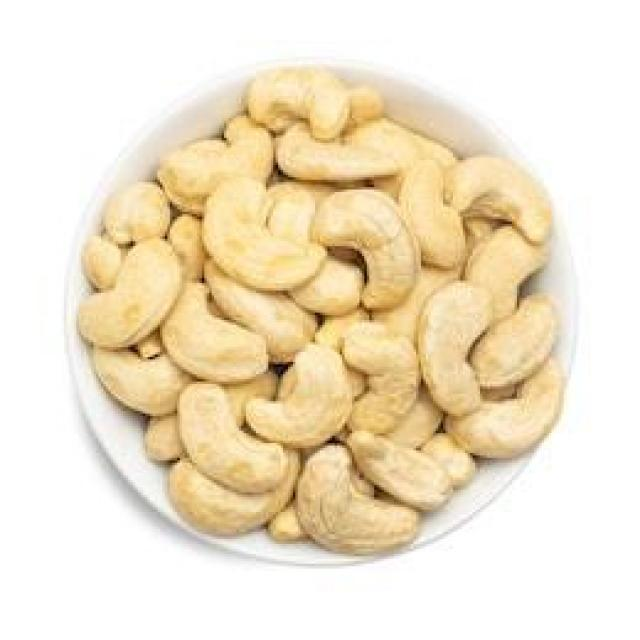Cashew: (327, 173, 434, 320), (409, 267, 500, 416), (175, 387, 296, 485), (442, 136, 597, 208), (84, 234, 190, 336), (252, 49, 389, 122), (299, 454, 397, 555), (155, 106, 259, 199), (191, 186, 294, 279), (168, 290, 266, 376), (274, 347, 359, 442), (84, 347, 186, 422), (354, 322, 424, 419), (376, 436, 466, 506), (482, 311, 565, 370), (460, 229, 533, 288)
